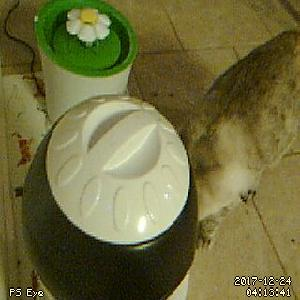cat: (173, 26, 300, 252)
fountain: (33, 1, 138, 78)
